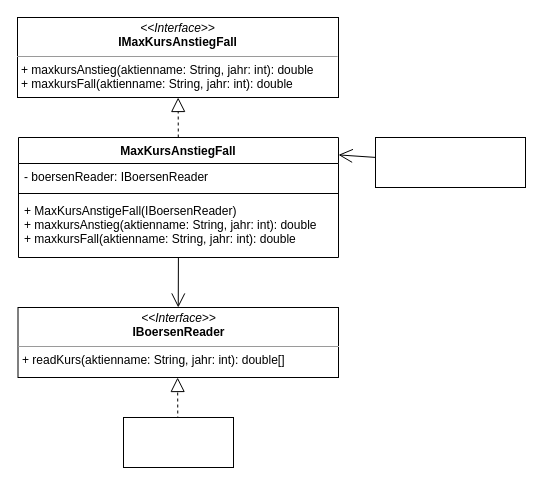
The diagram is 543 pixels wide and 485 high, and some of its shapes have lost their labels. The shapes that lost their labels are listed below. From the top down, each one's centre as x and y in pixels, then its label:
At (x=450, y=162): "MaxKursAnstiegFallTest".
At (x=178, y=442): "TestDouble".
